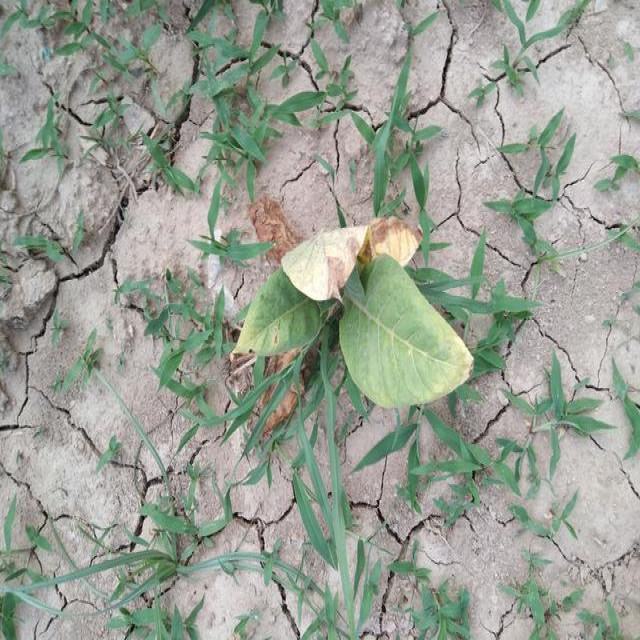crop: (241, 204, 468, 405)
